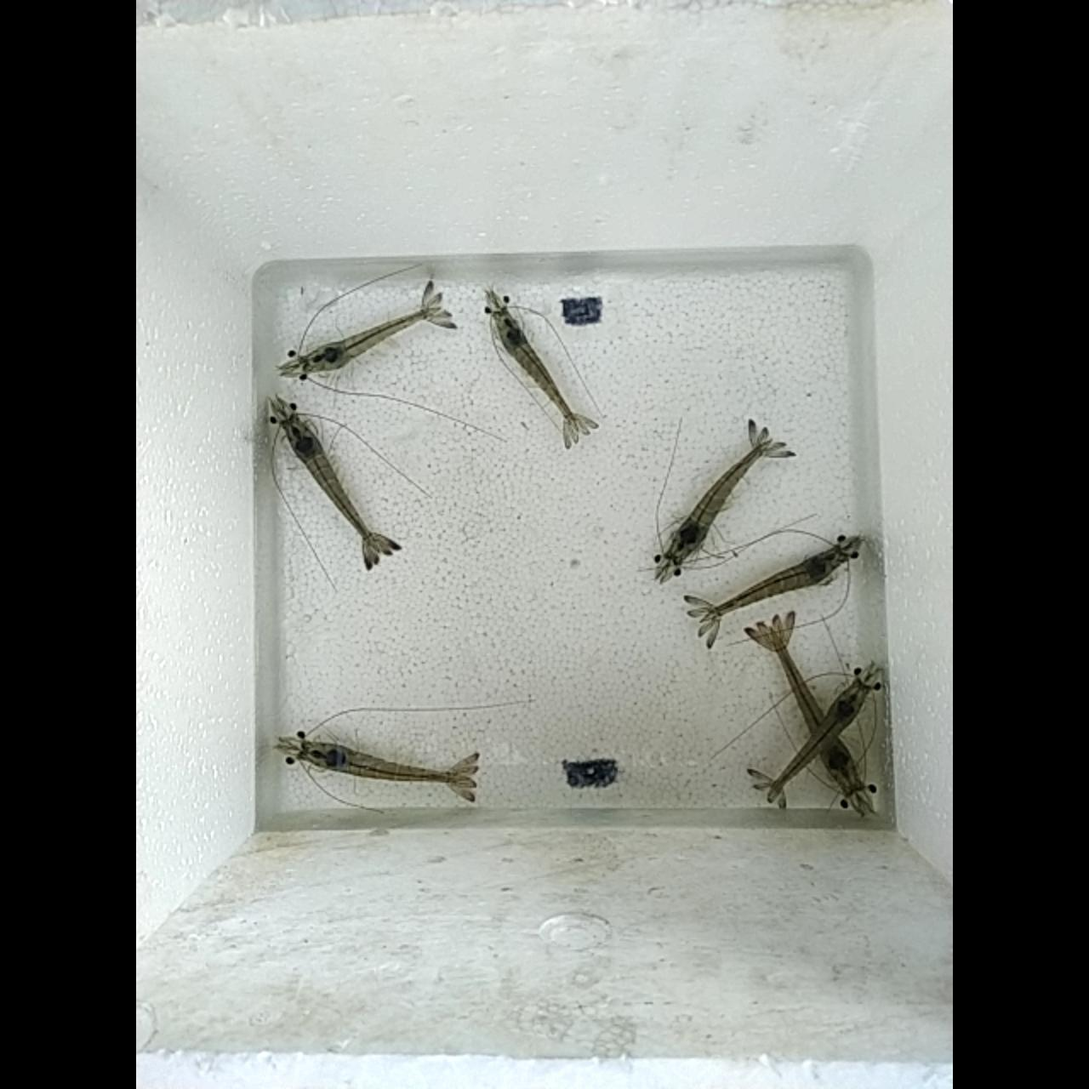top_shrimp: (772, 628, 860, 793), (284, 420, 381, 551), (669, 442, 769, 560), (773, 689, 864, 793), (499, 315, 580, 429), (710, 550, 842, 618), (306, 310, 436, 373), (303, 744, 466, 783)
